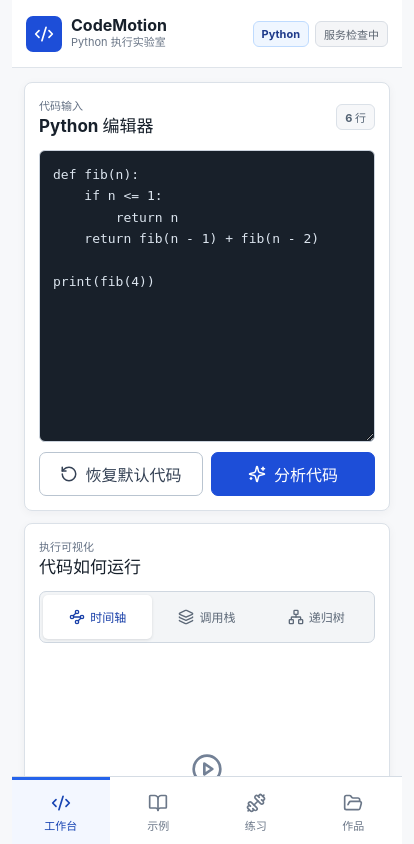
it: CodeMotion application › restores default code and clears analysis state
This screenshot has width=414, height=844.
Step 1. Replace the text in the text box named "Python 代码" with "print('changed')" → point(207, 296), box [39, 150, 375, 442]
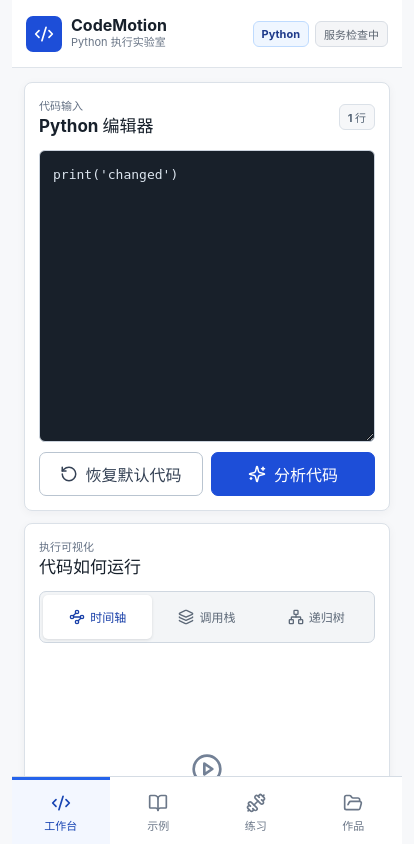
Step 2. Click the button "分析代码" → point(293, 474), box [211, 452, 375, 496]
(page scrolled)
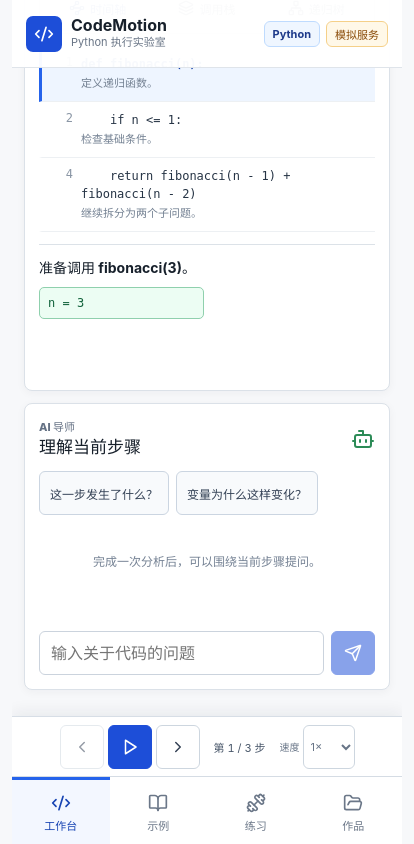
Step 3. Click the button "这一步发生了什么？" → point(104, 493), box [39, 471, 169, 515]
(page scrolled)
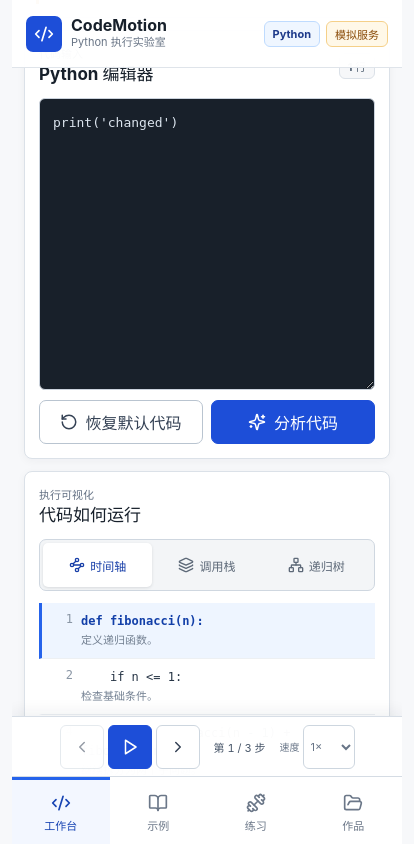
Now the element named "播放控制" is shown, box [12, 716, 402, 776]
Step 4. Click the button "恢复默认代码" → point(121, 422), box [39, 400, 203, 444]
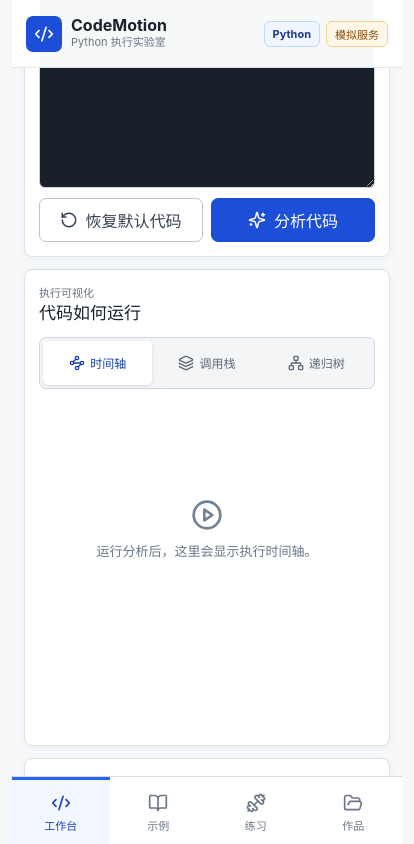
Now the field labelled "播放控制" is gone
Now the text "运行分析后，这里会显示执行时间轴。" is shown, box [96, 542, 318, 562]
